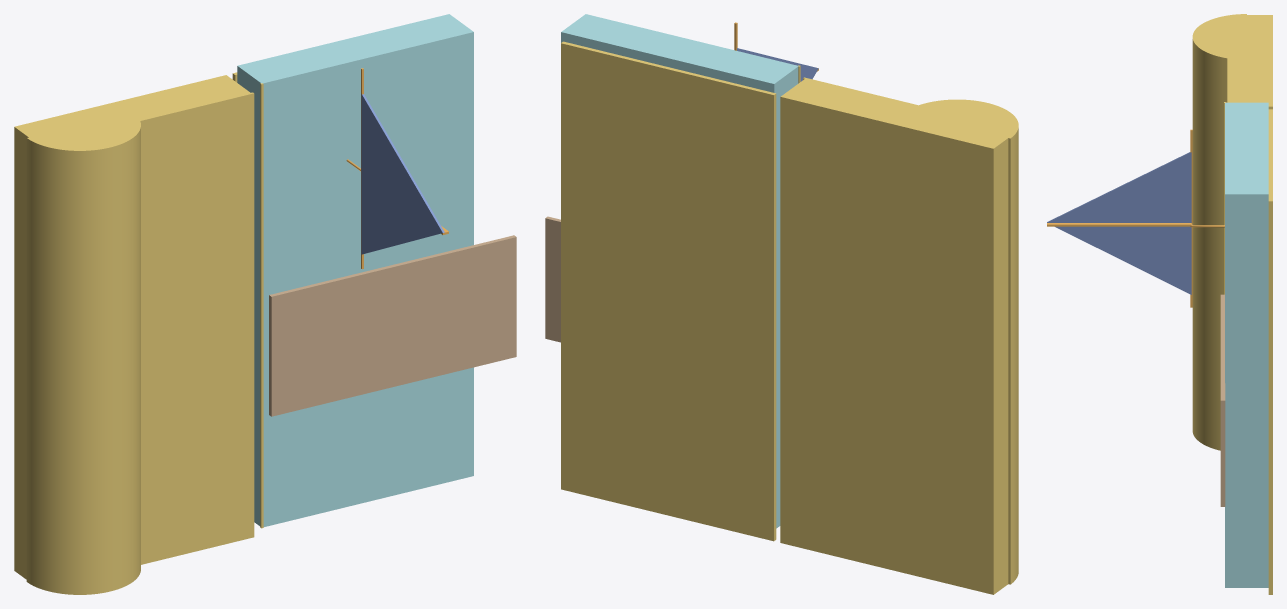
3 renders of one model, left to right at view 1: azimuth 30°, elevation 25°; view 2: azimuth 150°, elevation 25°; view 3: azimuth 270°, elevation 25°, orthographic. The views are drawn at different scales.
Visible parts, largest first — view 1: rounded_gold, blue_slab, cross_flap, triangle_sheet, edge_strip; view 2: rounded_gold, front_skin, blue_slab, cross_flap; view 3: blue_slab, rounded_gold, triangle_sheet, front_skin, cross_flap, fold_edge, gold_spine.
Part boxes in pixels (box(x1,y1,x2,y2)): rounded_gold: box(14, 75, 254, 594); blue_slab: box(237, 14, 473, 526); cross_flap: box(269, 235, 516, 416); triangle_sheet: box(361, 94, 444, 254); edge_strip: box(260, 83, 263, 528); rounded_gold: box(780, 77, 1018, 594); front_skin: box(561, 41, 776, 541); blue_slab: box(561, 14, 798, 528); cross_flap: box(545, 216, 560, 342); blue_slab: box(1225, 102, 1268, 587); rounded_gold: box(1192, 14, 1272, 450); triangle_sheet: box(1047, 152, 1191, 294); front_skin: box(1268, 109, 1272, 594); cross_flap: box(1220, 294, 1225, 506); fold_edge: box(1047, 223, 1191, 226); gold_spine: box(1190, 129, 1192, 307).
Size of the model in its own units: 8 by 7.43 by 3.71.
